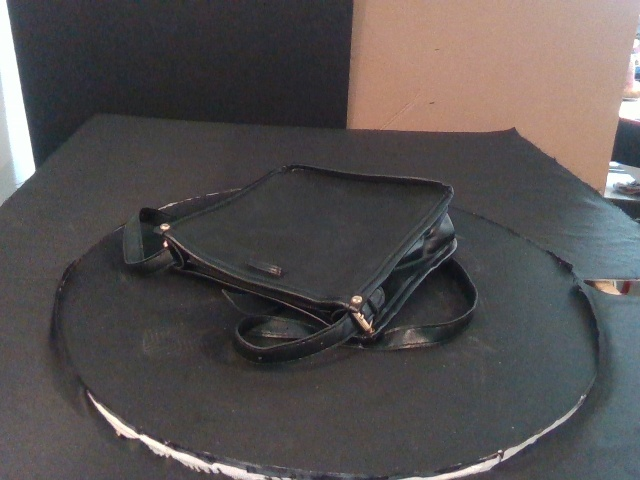bag: (157, 162, 459, 338)
